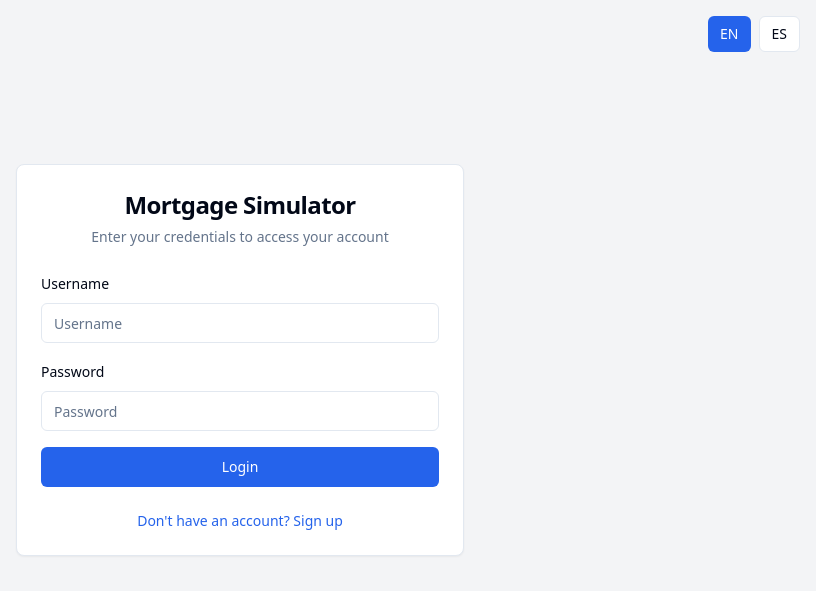
Login Page › displays error on invalid credentials
Type "wrong" into the field labelled "Username" at [240, 323], box [41,303,439,343]
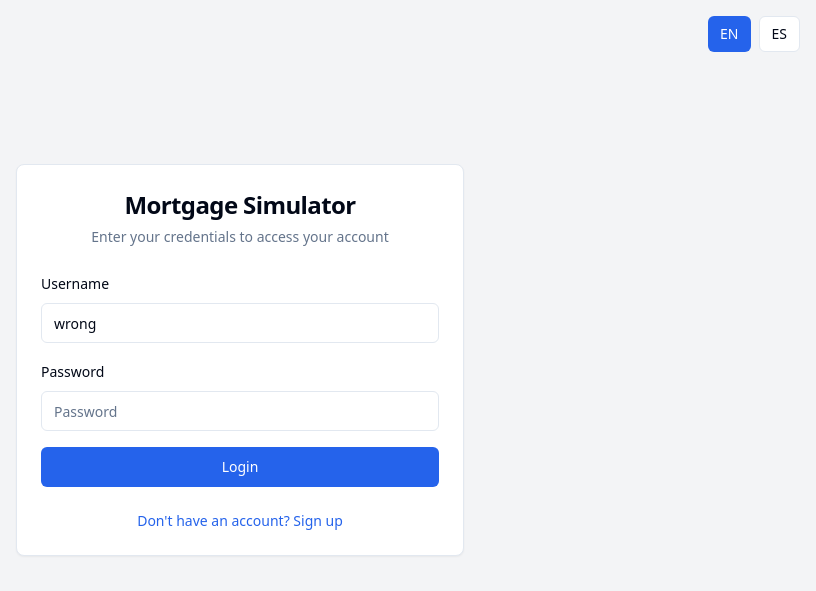
Type "wrong" into the password field labelled "Password" at [240, 411], box [41,391,439,431]
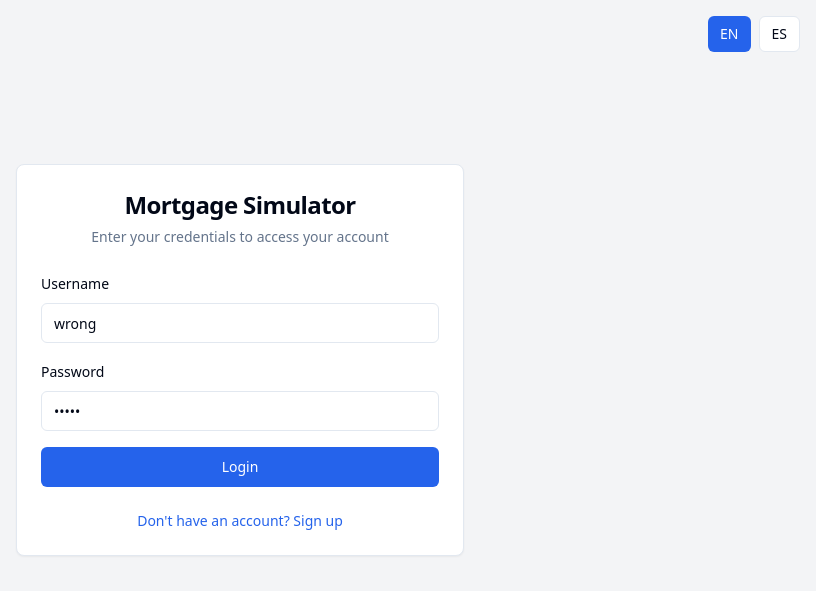
Click the button "Login" at [240, 467], box [41,447,439,487]
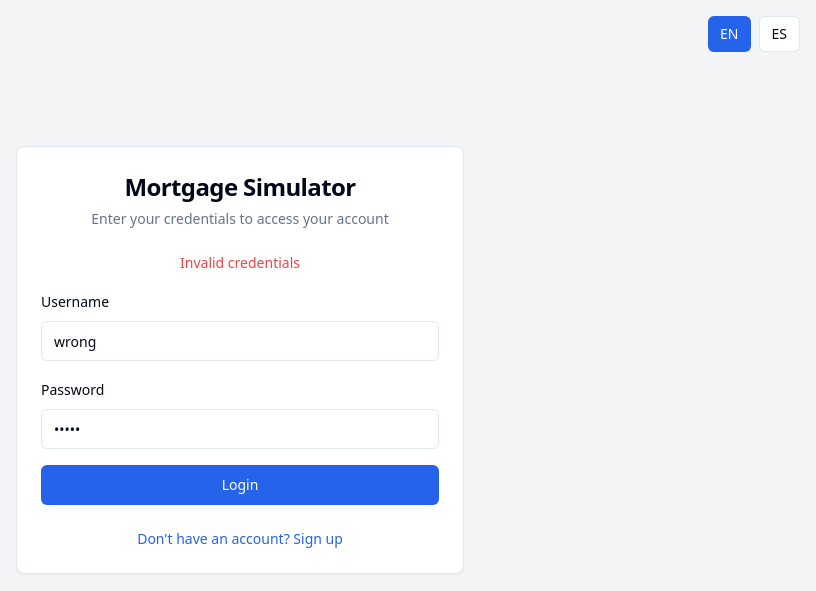
Check: the text "Invalid credentials" is shown, box [180,253,300,272]
